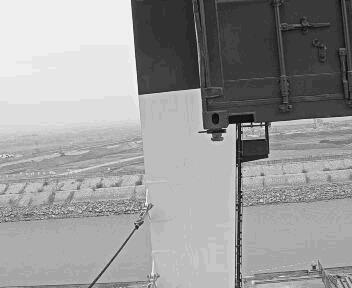twist_lock_1: (190, 129, 214, 148)
